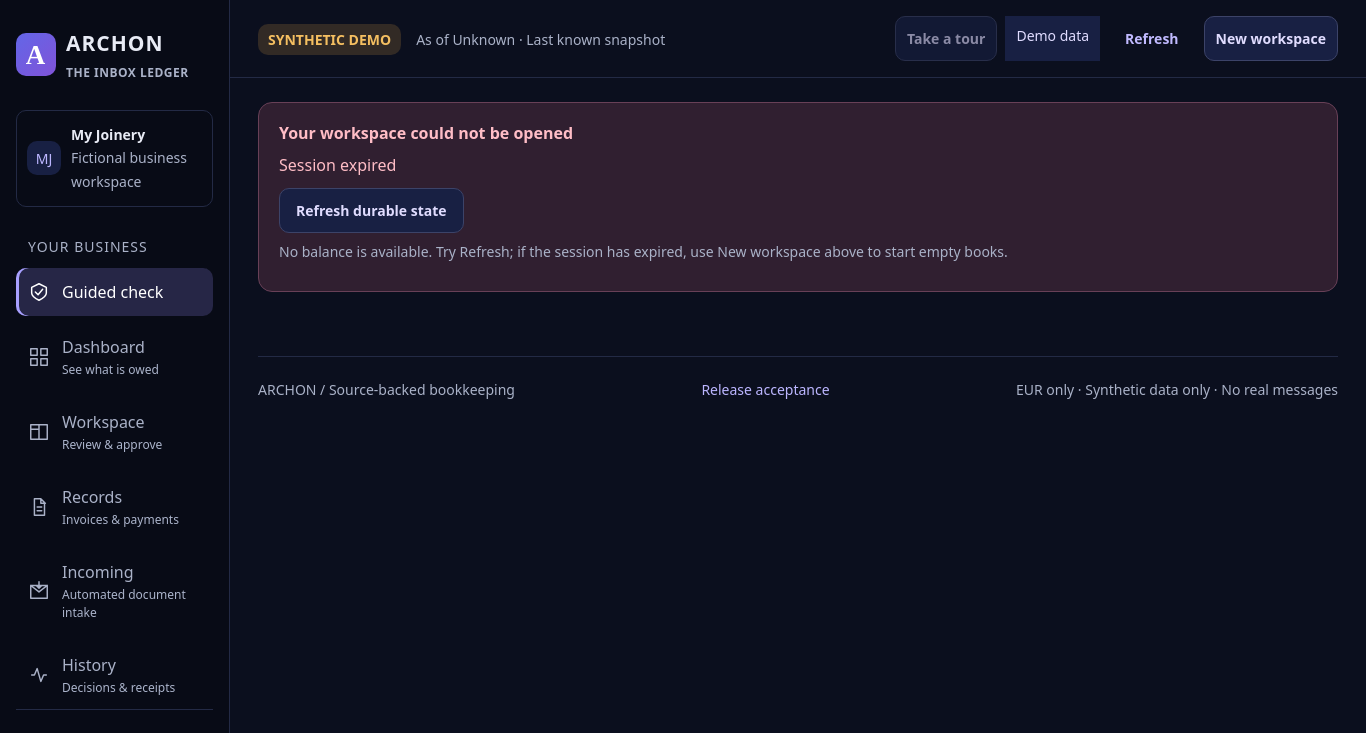
Scenario: opening failure stays recoverable after leaving the fast landing
Expected: the message that starts with "Your workspace could not be opened" is shown, [258, 102, 1338, 292]
Click the button "Refresh durable state": point(371, 211) [279, 188, 464, 233]
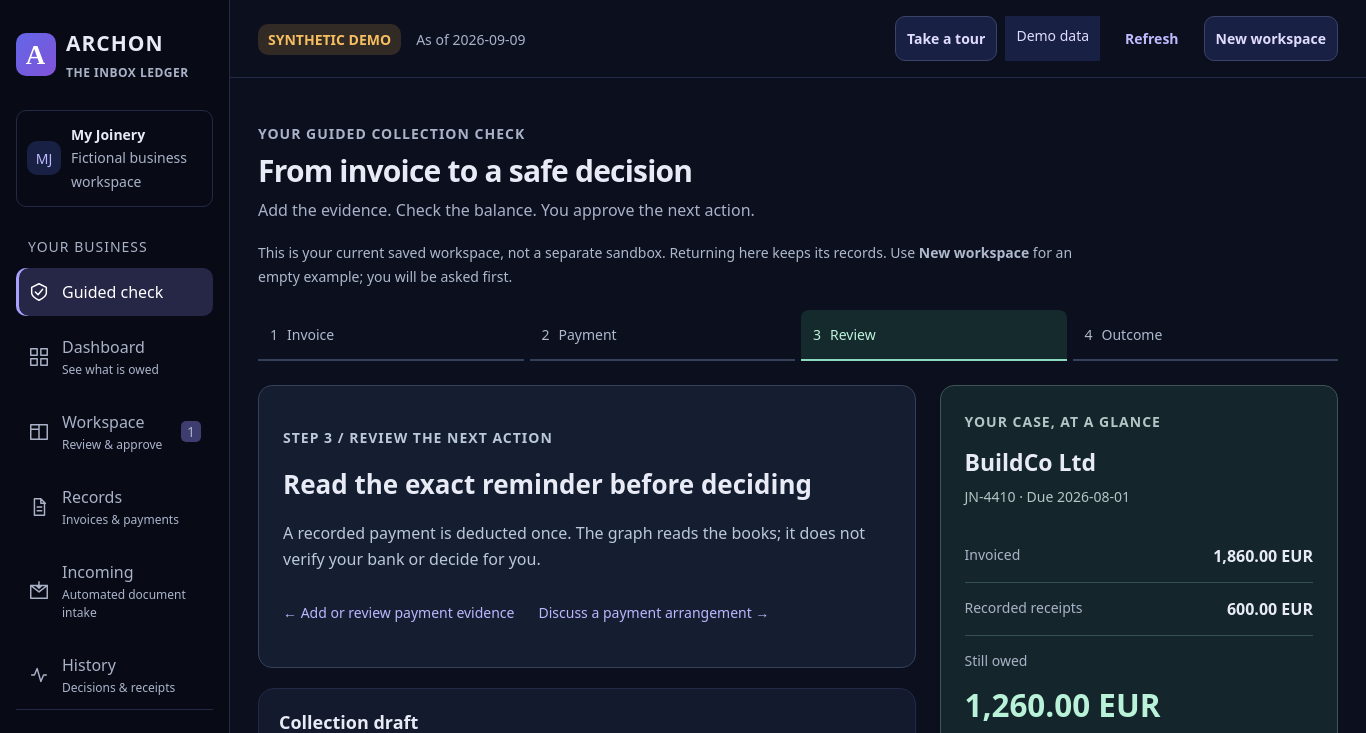
Now the heading "From invoice to a safe decision" is shown, box [258, 150, 692, 191]
